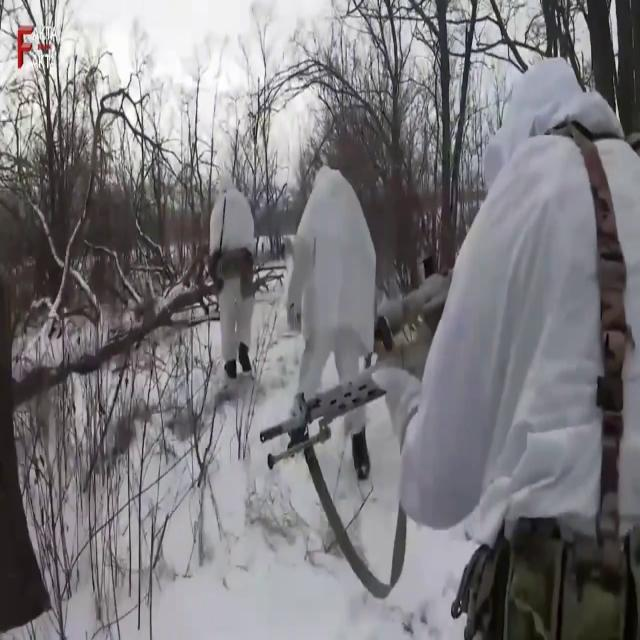Human: (261, 54, 636, 638), (286, 144, 376, 478), (209, 171, 255, 378)
